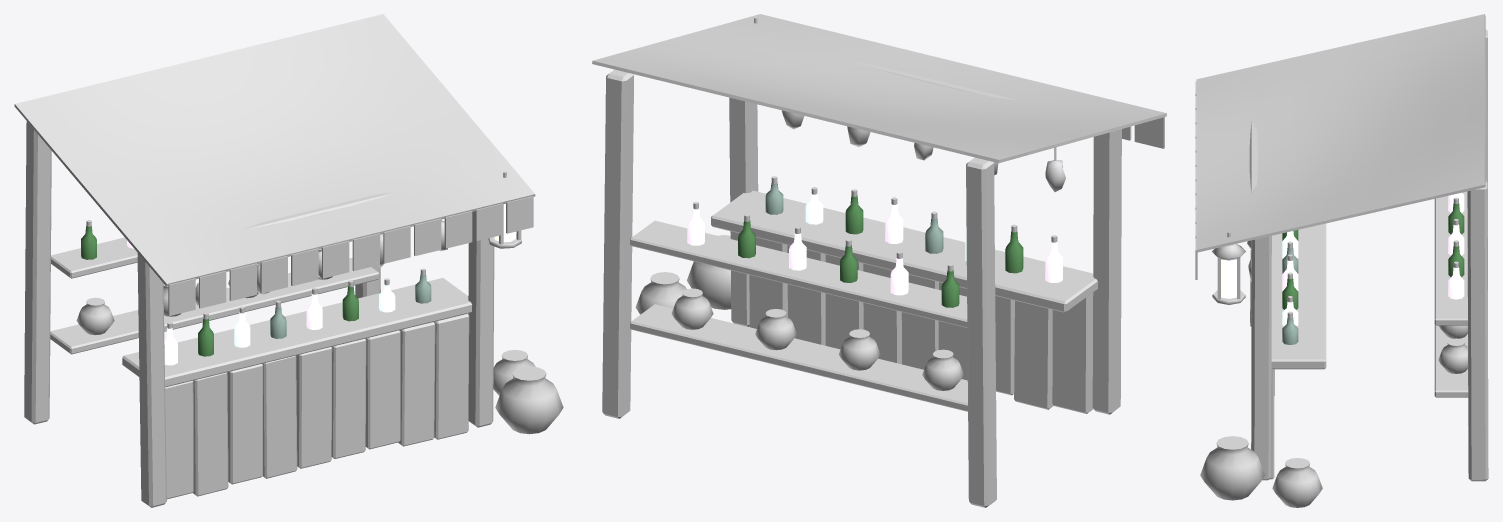
File: MarketStallB.fbx
3 views of the same model, side by side, from view 1: azimuth 30°, elevation 25°; view 2: azimuth 150°, elevation 25°; view 3: azimuth 270°, elevation 25° (orthographic). The views are drawn at different scales.
Parts seen in each view (by area): view 1: MarketStallB__cloth_purple, MarketStallB__wood_b, MarketStallB__wood_dark, MarketStallB__wood_c, MarketStallB__wood_a, MarketStallB__sail_patch, MarketStallB__brick, MarketStallB__glass_green, MarketStallB__wood_pale, MarketStallB__glow_potion, MarketStallB__stone_dk, MarketStallB__glow_mushroom (+1 smaller); view 2: MarketStallB__cloth_purple, MarketStallB__wood_dark, MarketStallB__wood_c, MarketStallB__wood_b, MarketStallB__wood_a, MarketStallB__brick, MarketStallB__glass_green, MarketStallB__glow_potion, MarketStallB__leaf, MarketStallB__wood_pale, MarketStallB__stone_dk, MarketStallB__glass; view 3: MarketStallB__cloth_purple, MarketStallB__wood_dark, MarketStallB__wood_c, MarketStallB__brick, MarketStallB__stone_dk, MarketStallB__glow_potion, MarketStallB__glass_green, MarketStallB__iron, MarketStallB__wood_pale, MarketStallB__glow_lantern, MarketStallB__glass, MarketStallB__glow_mushroom (+1 smaller).
Part boxes in pixels (left/top/right/bottom): MarketStallB__cloth_purple: left=14, top=14, right=535, bottom=315; MarketStallB__wood_b: left=165, top=314, right=469, bottom=499; MarketStallB__wood_dark: left=24, top=121, right=494, bottom=507; MarketStallB__wood_c: left=50, top=237, right=471, bottom=387; MarketStallB__wood_a: left=227, top=322, right=435, bottom=484; MarketStallB__sail_patch: left=199, top=196, right=533, bottom=308; MarketStallB__brick: left=76, top=249, right=563, bottom=434; MarketStallB__glass_green: left=81, top=226, right=358, bottom=356; MarketStallB__wood_pale: left=86, top=192, right=425, bottom=328; MarketStallB__glow_potion: left=127, top=240, right=322, bottom=365; MarketStallB__stone_dk: left=493, top=350, right=535, bottom=395; MarketStallB__glow_mushroom: left=234, top=284, right=395, bottom=347; MarketStallB__cloth_purple: left=592, top=14, right=1166, bottom=163; MarketStallB__wood_dark: left=602, top=69, right=1121, bottom=507; MarketStallB__wood_c: left=630, top=190, right=1097, bottom=411; MarketStallB__wood_b: left=749, top=237, right=1093, bottom=413; MarketStallB__wood_a: left=787, top=245, right=1014, bottom=395; MarketStallB__brick: left=671, top=235, right=963, bottom=390; MarketStallB__glass_green: left=738, top=195, right=1023, bottom=307; MarketStallB__glow_potion: left=687, top=204, right=1062, bottom=295; MarketStallB__leaf: left=781, top=110, right=1065, bottom=191; MarketStallB__wood_pale: left=693, top=59, right=1057, bottom=271; MarketStallB__stone_dk: left=635, top=272, right=686, bottom=314; MarketStallB__glass: left=765, top=182, right=943, bottom=253; MarketStallB__cloth_purple: left=1195, top=14, right=1485, bottom=252; MarketStallB__wood_dark: left=1250, top=29, right=1488, bottom=481; MarketStallB__wood_c: left=1271, top=191, right=1468, bottom=397; MarketStallB__brick: left=1200, top=325, right=1467, bottom=500; MarketStallB__stone_dk: left=1272, top=458, right=1322, bottom=507; MarketStallB__glow_potion: left=1282, top=192, right=1464, bottom=299; MarketStallB__glass_green: left=1282, top=203, right=1464, bottom=309; MarketStallB__iron: left=1212, top=231, right=1245, bottom=304; MarketStallB__wood_pale: left=1249, top=121, right=1458, bottom=318; MarketStallB__glow_lantern: left=1221, top=259, right=1236, bottom=298; MarketStallB__glass: left=1282, top=247, right=1298, bottom=344; MarketStallB__glow_mushroom: left=1282, top=231, right=1298, bottom=326.
Size of the model in its own units: 12.9 by 9.46 by 8.12.
